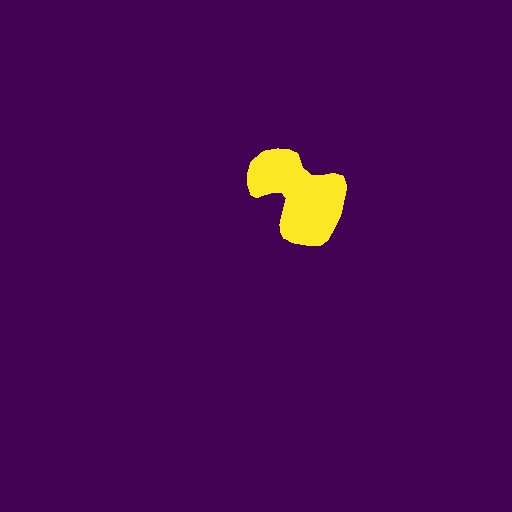Gliomia_tumour: (247, 148, 347, 246)
